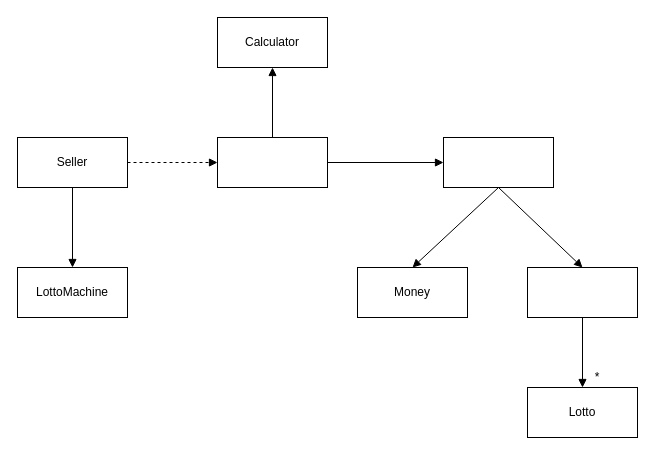
The diagram is 655 pixels wide and 455 high, and some of its shapes have lost their labels. The shapes that lost their labels are listed below. From the top down, each one's centre as x and y in pixels, then its label:
the point at 272,162: Person
the point at 498,162: Wallet
the point at 582,292: Lottos
